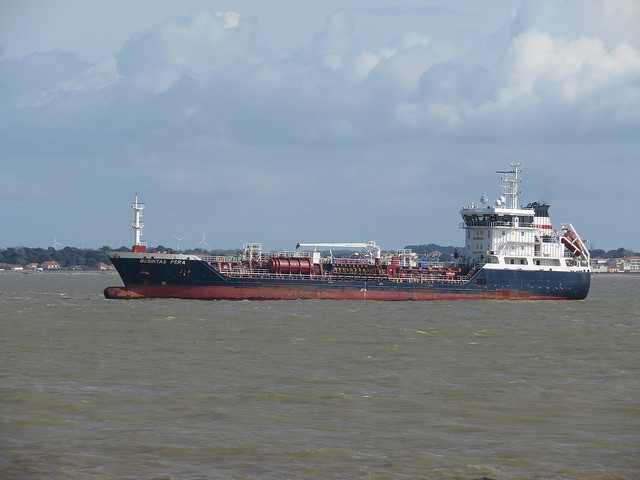tanker: (105, 183, 593, 302)
